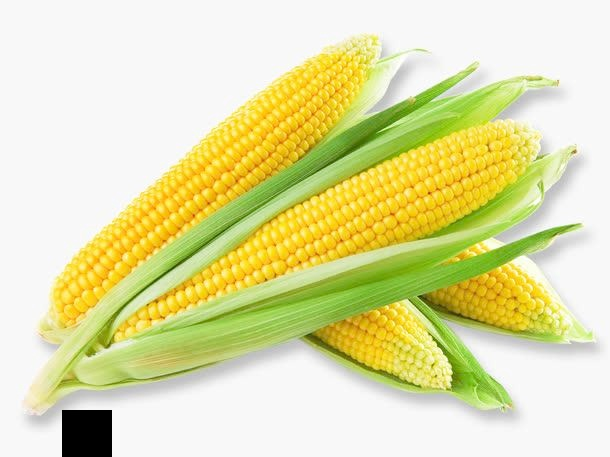corn: (43, 37, 382, 332), (112, 117, 538, 344)
